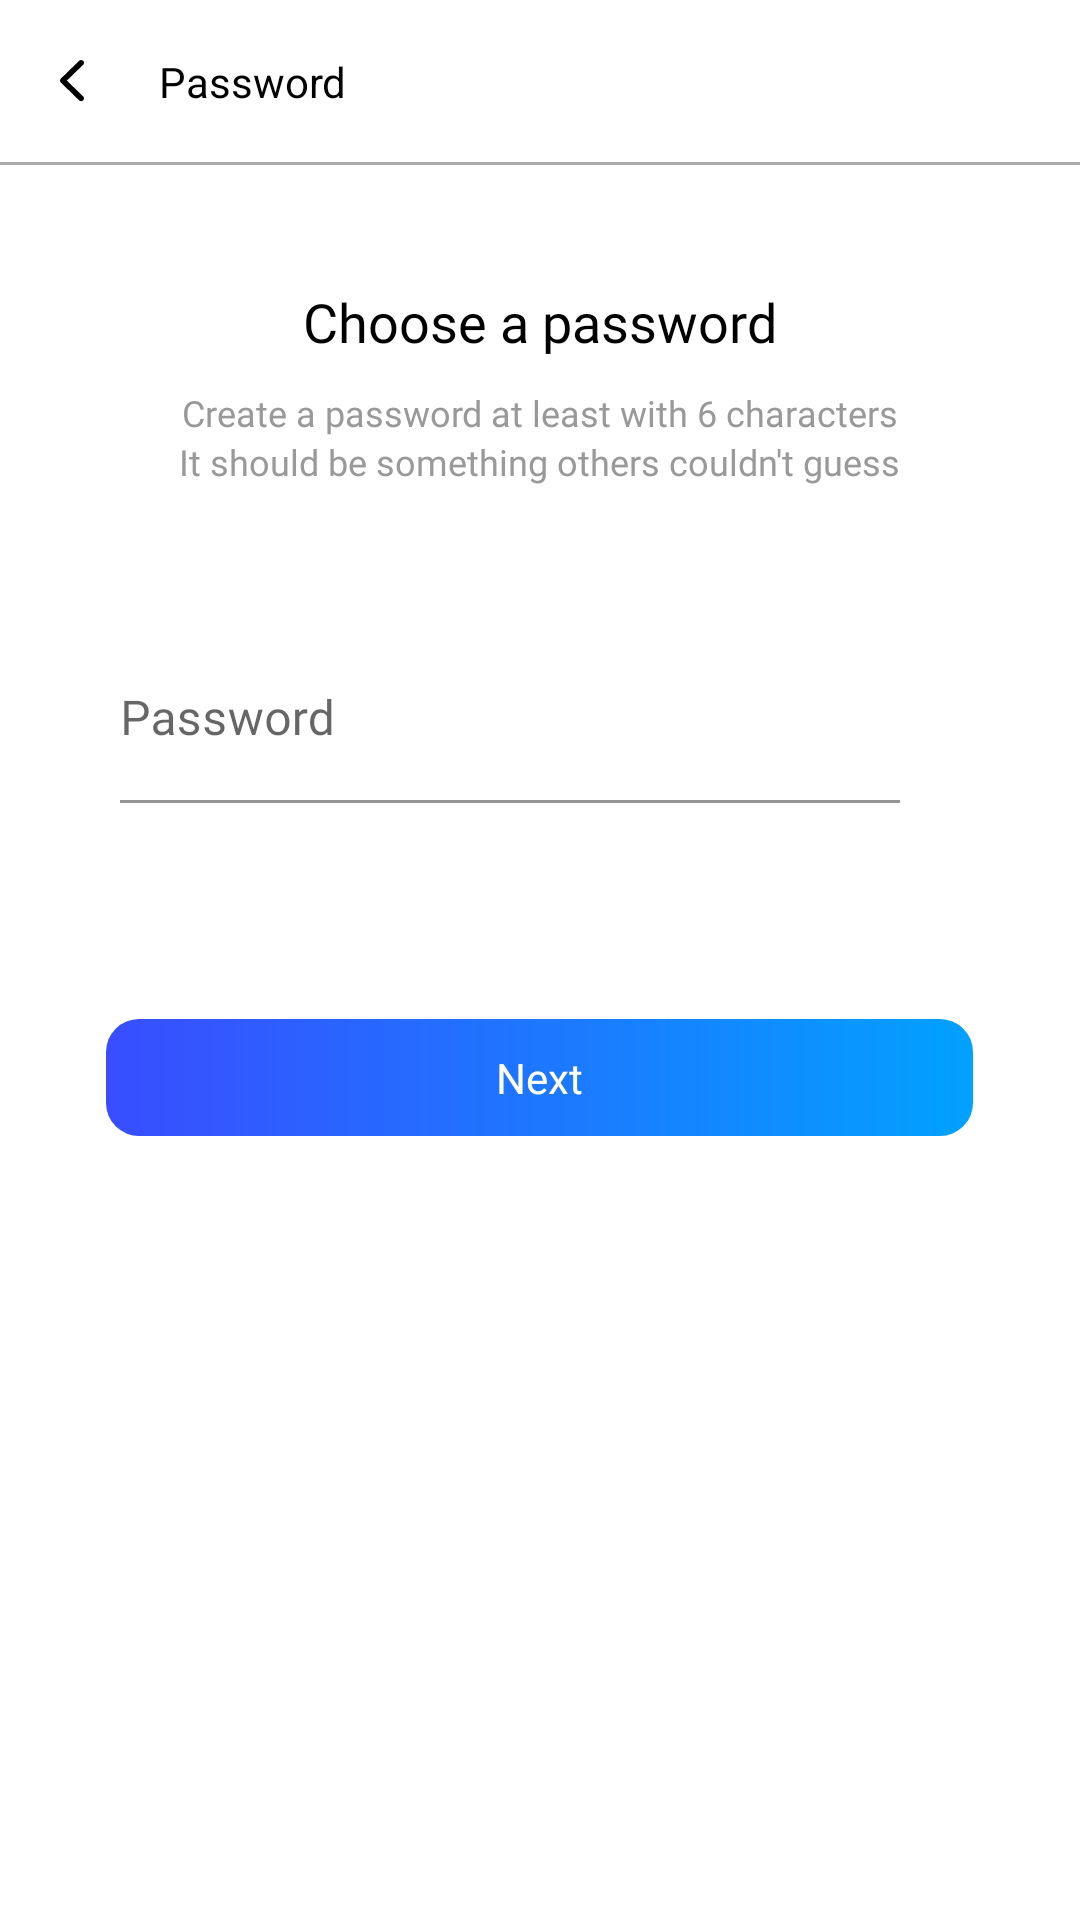

Locate icon controls on the screen. Image size 1080 × 1920, boxes as {"x1": x1, "y1": y1, "x2": x2, "y2": y2}.
back create account: {"x1": 60, "y1": 60, "x2": 84, "y2": 101}
